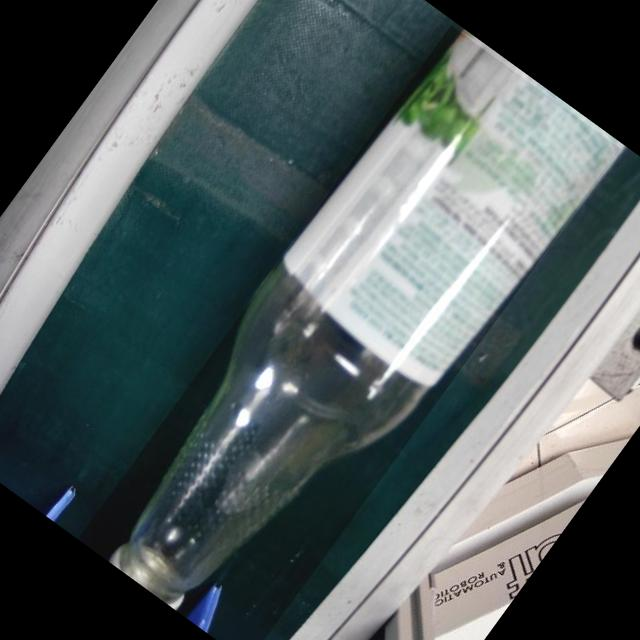BotolKaca: (74, 18, 625, 640)
